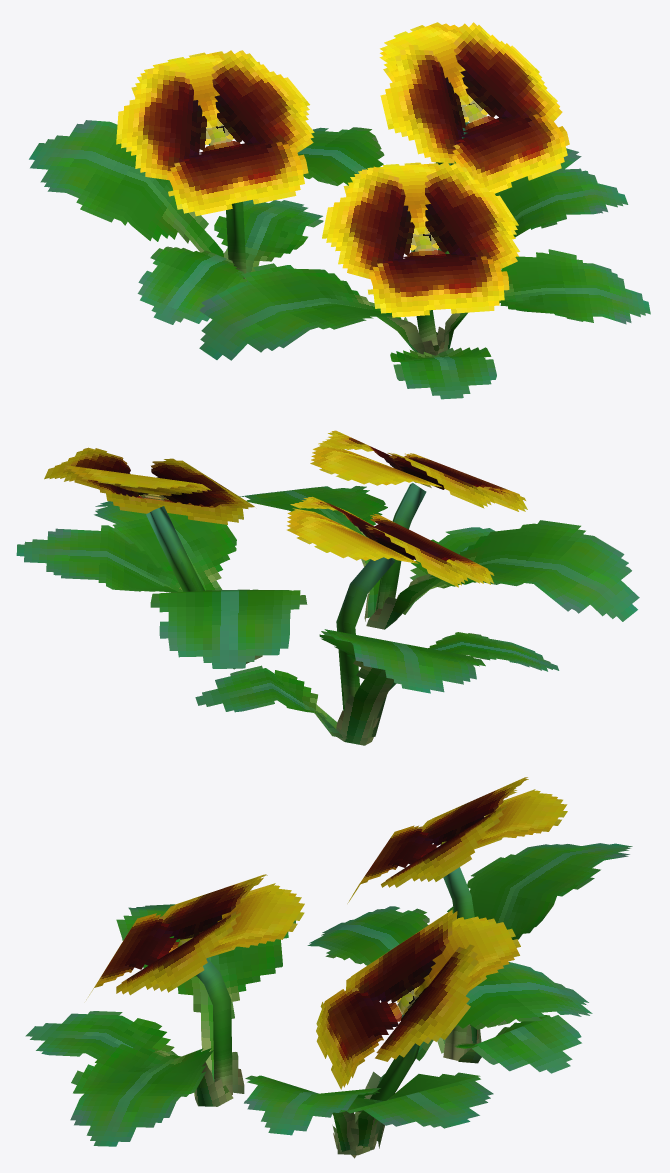
Rendered from yellow-pansies.glb.
3 views of the same model, one above another, from view 1: azimuth 30°, elevation 25°; view 2: azimuth 150°, elevation 25°; view 3: azimuth 270°, elevation 25° (orthographic). The views are drawn at different scales.
Size of the model in its own units: 10.83 by 4.92 by 10.68.
Materials: 2 (2 with a texture image).
